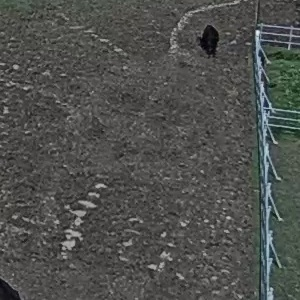cow: (187, 20, 227, 68)
